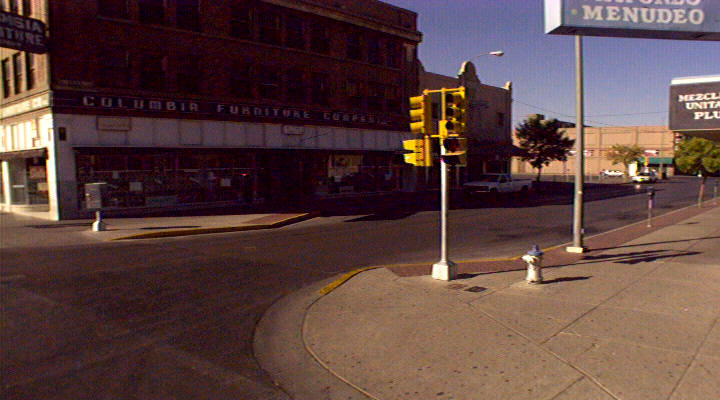Ramp: (241, 264, 623, 400), (2, 226, 130, 252)
